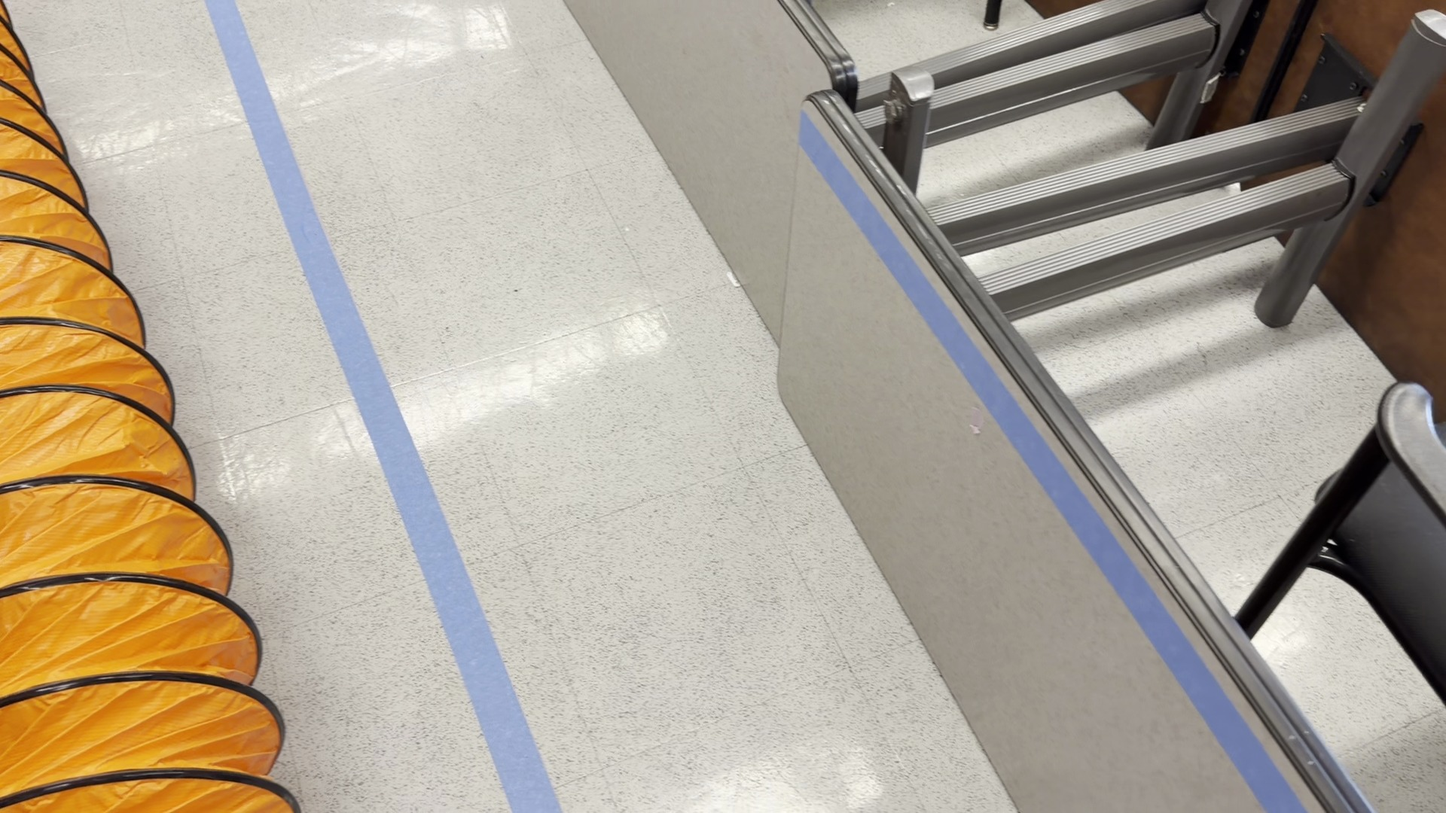racecar: (640, 0, 1441, 812)
